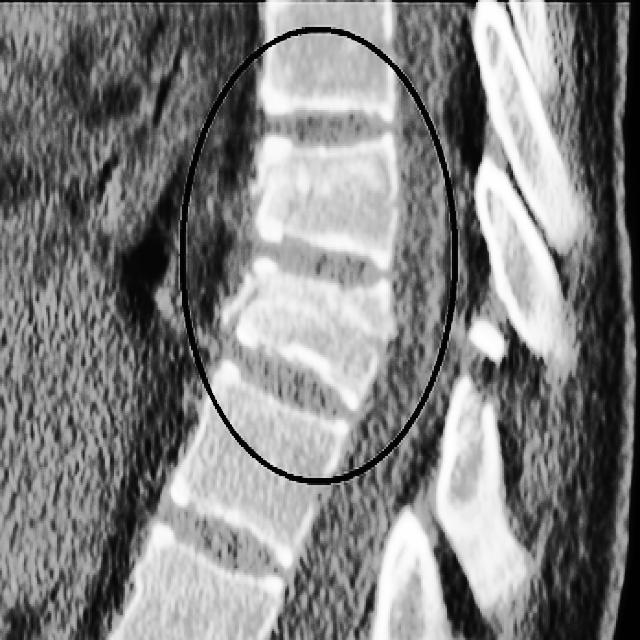Compression-Crush Fracutre: (213, 253, 420, 430), (235, 111, 417, 280)
